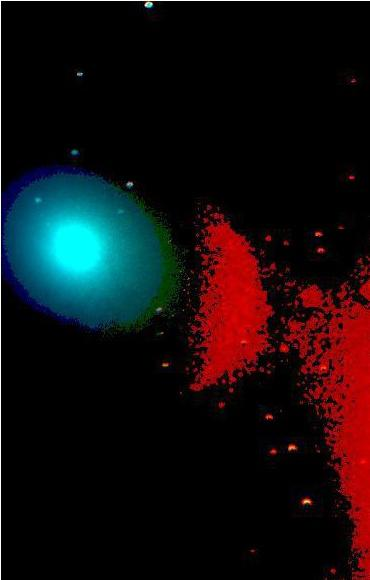star: (93, 219, 123, 249)
